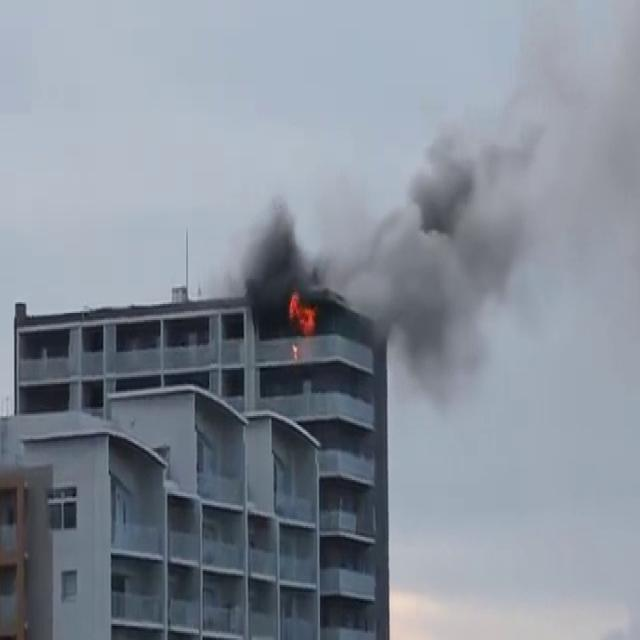Fire: (283, 285, 323, 343)
Smoke: (343, 2, 640, 402), (222, 168, 342, 332)
